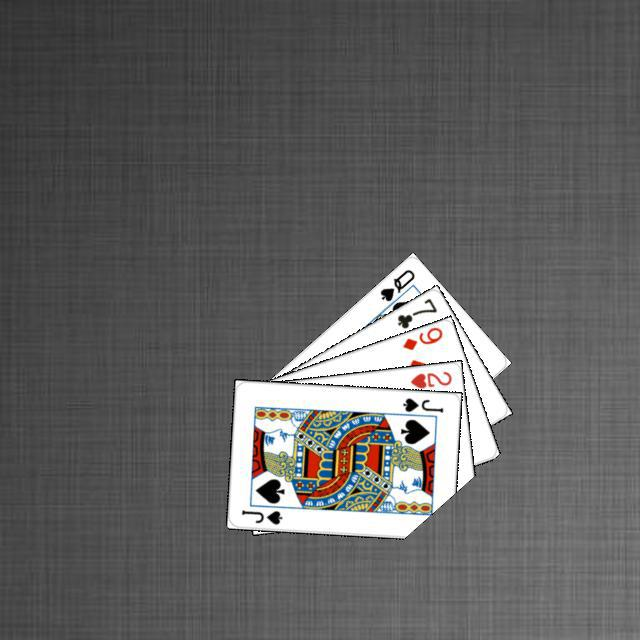2h: (406, 366, 453, 390)
7c: (392, 293, 439, 330)
9d: (397, 322, 444, 352)
Js: (398, 393, 445, 414), (237, 505, 284, 526)
Qs: (375, 264, 417, 303)
